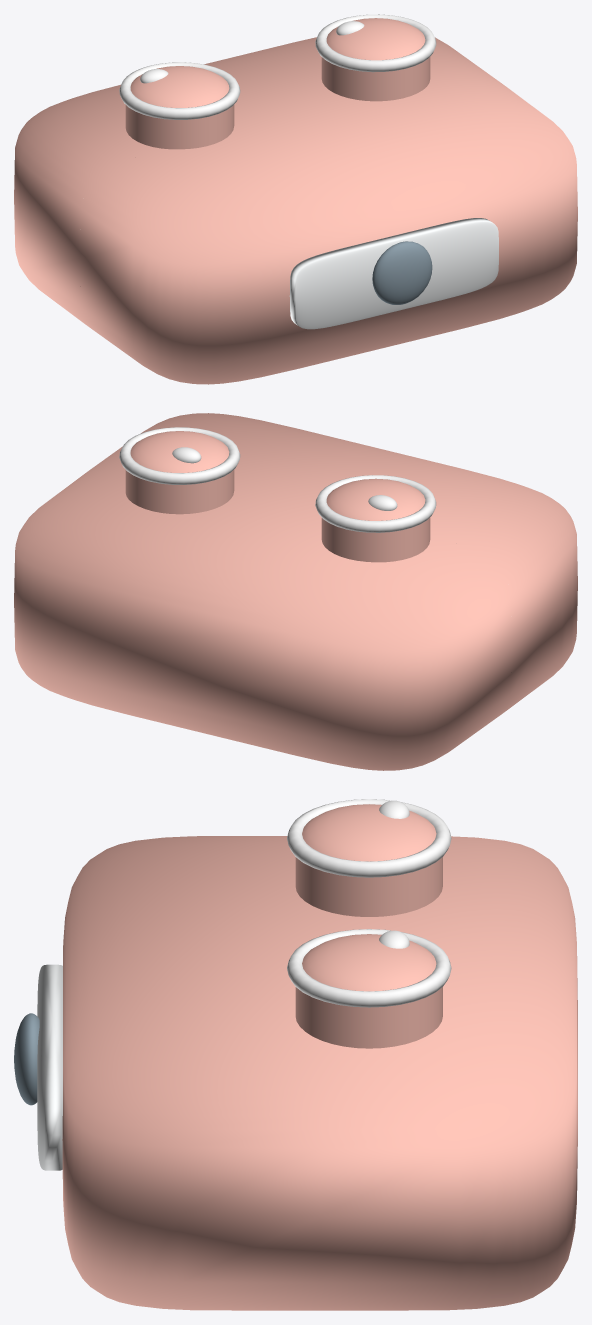
File: block-red.glb
3 renders of one model, top to bottom at view 1: azimuth 30°, elevation 25°; view 2: azimuth 150°, elevation 25°; view 3: azimuth 270°, elevation 25°, orthographic. The views are drawn at different scales.
Parts seen in each view (by area): view 1: single molded rounded body, front inset panel, top peg body (×2), rounded peg cap (×2), peg bevel ring (×2), front dot; view 2: single molded rounded body, top peg body (×2), rounded peg cap (×2), peg bevel ring (×2); view 3: single molded rounded body, top peg body (×2), rounded peg cap (×2), peg bevel ring (×2), front inset panel, front dot.
Part boxes in pixels (<box>): single molded rounded body: <box>14,37,577,384</box>; front inset panel: <box>289,218,498,329</box>; top peg body (×2): <box>125,57,430,149</box>; rounded peg cap (×2): <box>130,18,425,107</box>; peg bevel ring (×2): <box>119,14,436,119</box>; front dot: <box>372,241,432,304</box>; single molded rounded body: <box>14,413,577,770</box>; top peg body (×2): <box>125,470,430,562</box>; rounded peg cap (×2): <box>130,431,425,520</box>; peg bevel ring (×2): <box>119,427,436,532</box>; single molded rounded body: <box>62,836,577,1310</box>; top peg body (×2): <box>295,857,442,1048</box>; rounded peg cap (×2): <box>302,804,436,991</box>; peg bevel ring (×2): <box>287,799,451,1007</box>; front inset panel: <box>37,964,62,1170</box>; front dot: <box>14,1013,39,1105</box>.
Bounding box in the file's own units: 1.1 × 0.568 × 0.9176.
